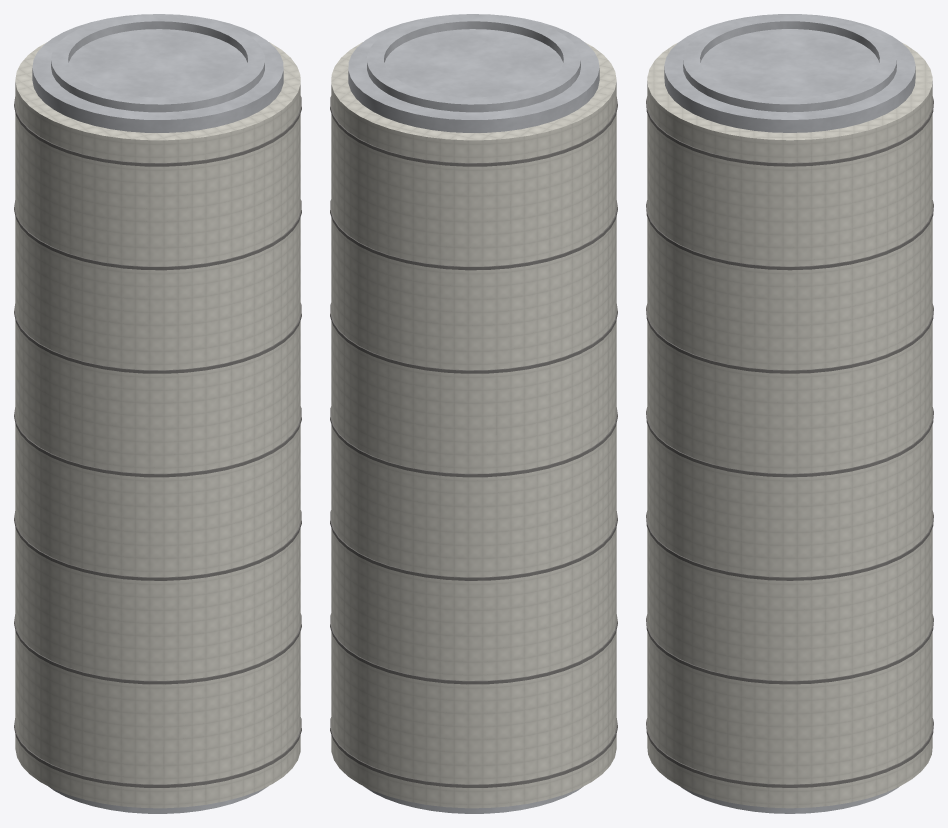
File: station02_b330.glb
The picture shows the model from 3 angles, left to right: view 1: azimuth 30°, elevation 25°; view 2: azimuth 150°, elevation 25°; view 3: azimuth 270°, elevation 25°; orthographic projection.
Parts seen in each view (by area): view 1: softgoods_packed, end_bulkheads, restraint_straps; view 2: softgoods_packed, end_bulkheads, restraint_straps; view 3: softgoods_packed, end_bulkheads, restraint_straps.
Boxes of the visible parts, x1,y1,x2,y2 form: softgoods_packed: [15, 42, 300, 808]; end_bulkheads: [32, 14, 283, 813]; restraint_straps: [14, 96, 301, 787]; softgoods_packed: [331, 42, 616, 808]; end_bulkheads: [348, 14, 599, 813]; restraint_straps: [330, 96, 617, 787]; softgoods_packed: [647, 43, 932, 808]; end_bulkheads: [664, 14, 915, 813]; restraint_straps: [646, 96, 933, 787].
Bounding box in the file's own units: 5.03 × 13.7 × 5.04.
3 materials, 3 textured.
